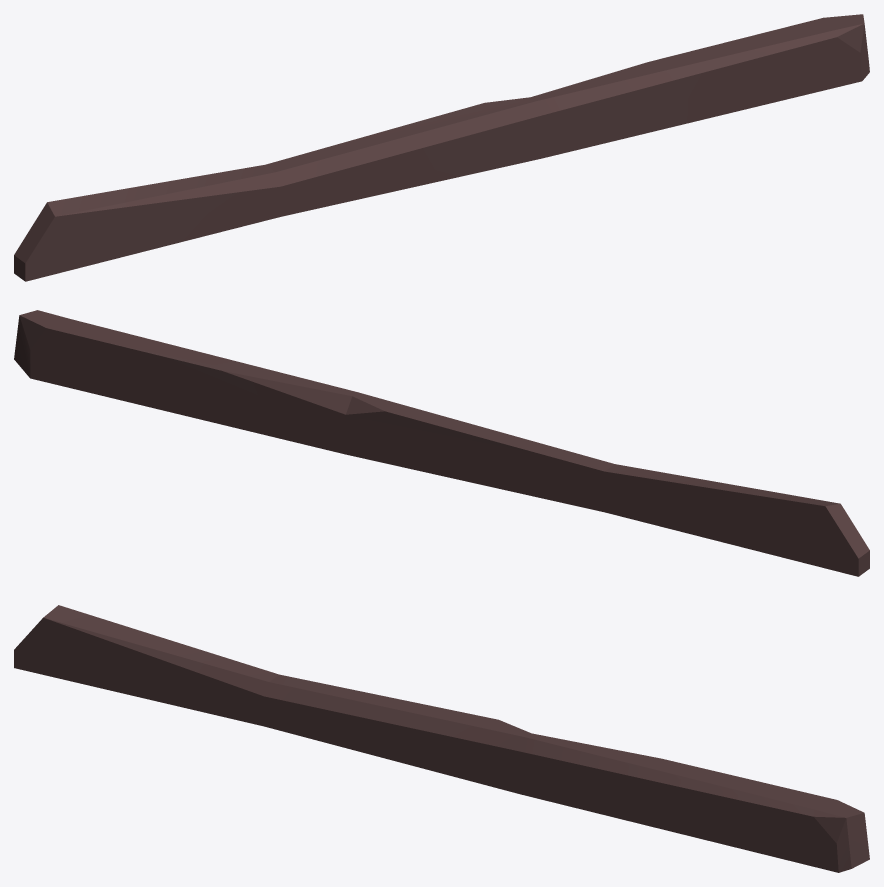
The model's file is prop_59.FBX.
3 renders of one model, top to bottom at view 1: azimuth 30°, elevation 25°; view 2: azimuth 150°, elevation 25°; view 3: azimuth 330°, elevation 25°, orthographic.
Visible parts, largest first — view 1: prop_59; view 2: prop_59; view 3: prop_59.
Boxes of the visible parts, left/top/right/bottom form: prop_59: left=14, top=14, right=869, bottom=281; prop_59: left=14, top=310, right=869, bottom=576; prop_59: left=14, top=605, right=869, bottom=872.
Size of the model in its own units: 87.33 by 6.17 by 3.39.
